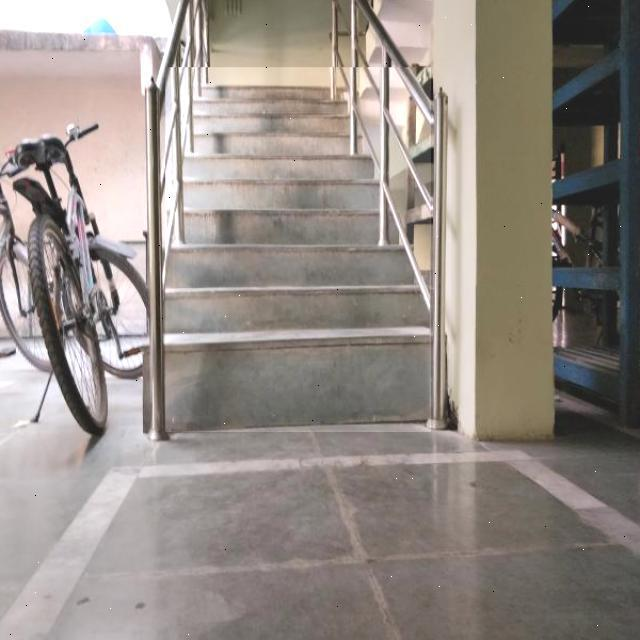stair: (166, 67, 433, 432)
